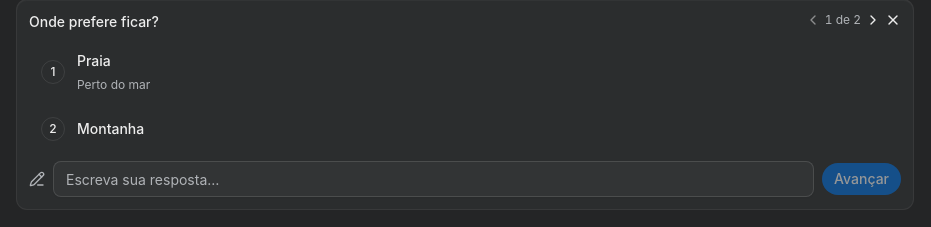
Test case: Interactive questions › retains answers after failure and blocks duplicate submissions while awaiting confirmation
The width and height of the screenshot is (931, 227).
Type "Praia" into the field at (434, 179), box [53,161,814,197]
Then press Enter
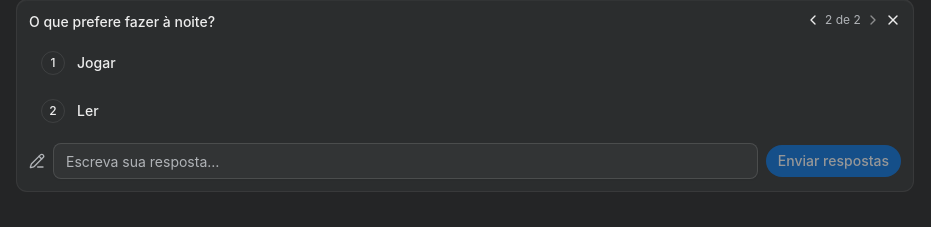
Type "Jogar" into the field at (405, 161), box [53,143,758,179]
Then press Enter
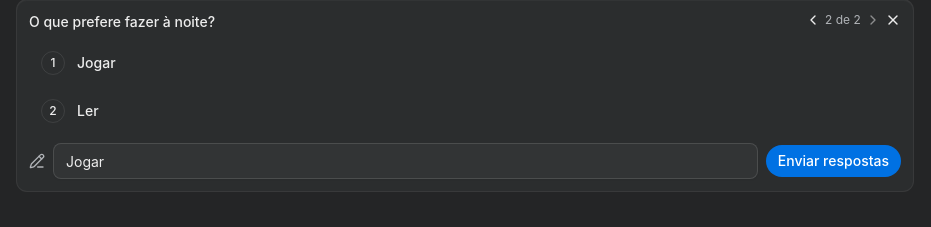
Expected: the button "Enviar respostas" is enabled
Double-click the button "Enviar respostas" at (833, 161), box [766,145,901,177]
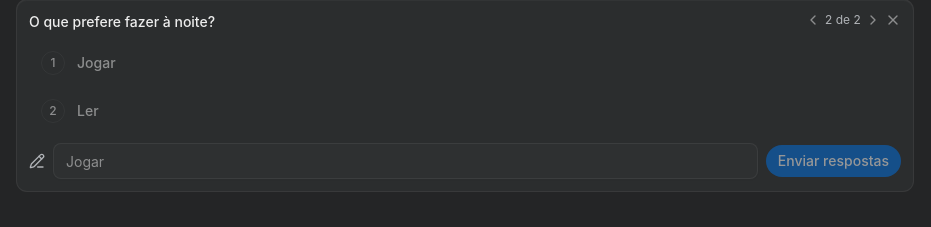
Expected: the field is disabled, [53,143,758,179]
